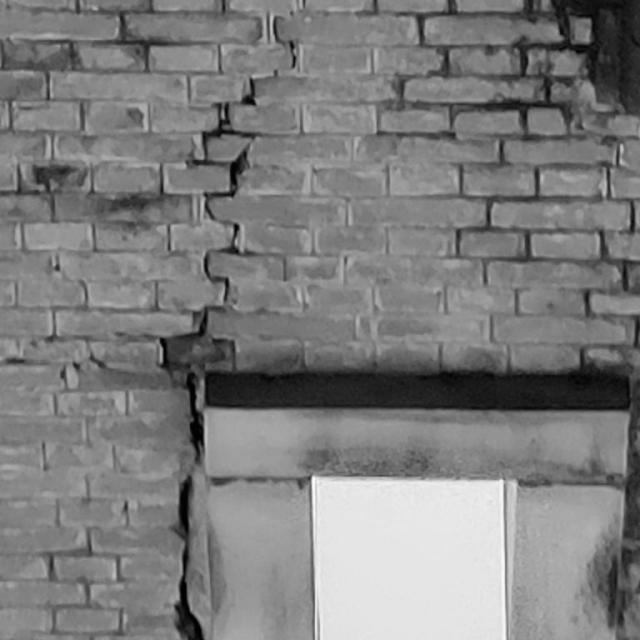crack: (159, 16, 297, 640)
